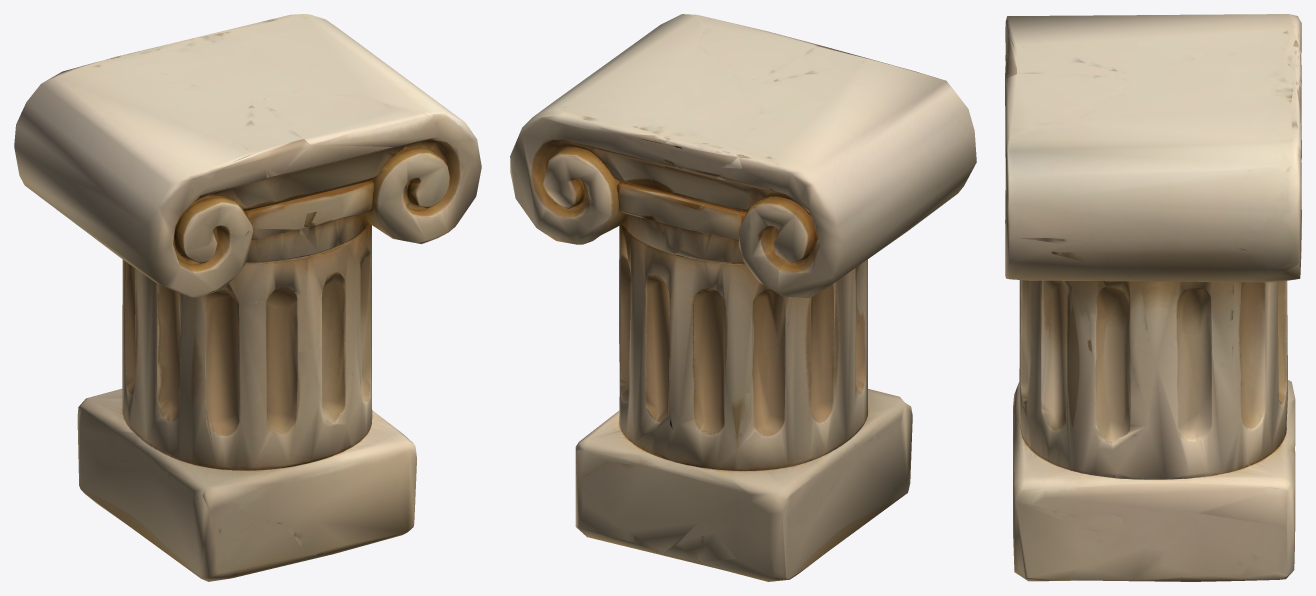
The model's file is ionia.glb.
The picture shows the model from 3 angles, left to right: view 1: azimuth 30°, elevation 25°; view 2: azimuth 150°, elevation 25°; view 3: azimuth 270°, elevation 25°; orthographic projection. The views are drawn at different scales.
Visible parts, largest first — view 1: model; view 2: model; view 3: model.
Boxes of the visible parts, box(x1,y1,x2,y2) form: model: box(14, 14, 481, 581); model: box(510, 14, 976, 581); model: box(1005, 14, 1301, 581).
Size of the model in its own units: 1.48 by 1.81 by 1.07.
1 material, 1 textured.
